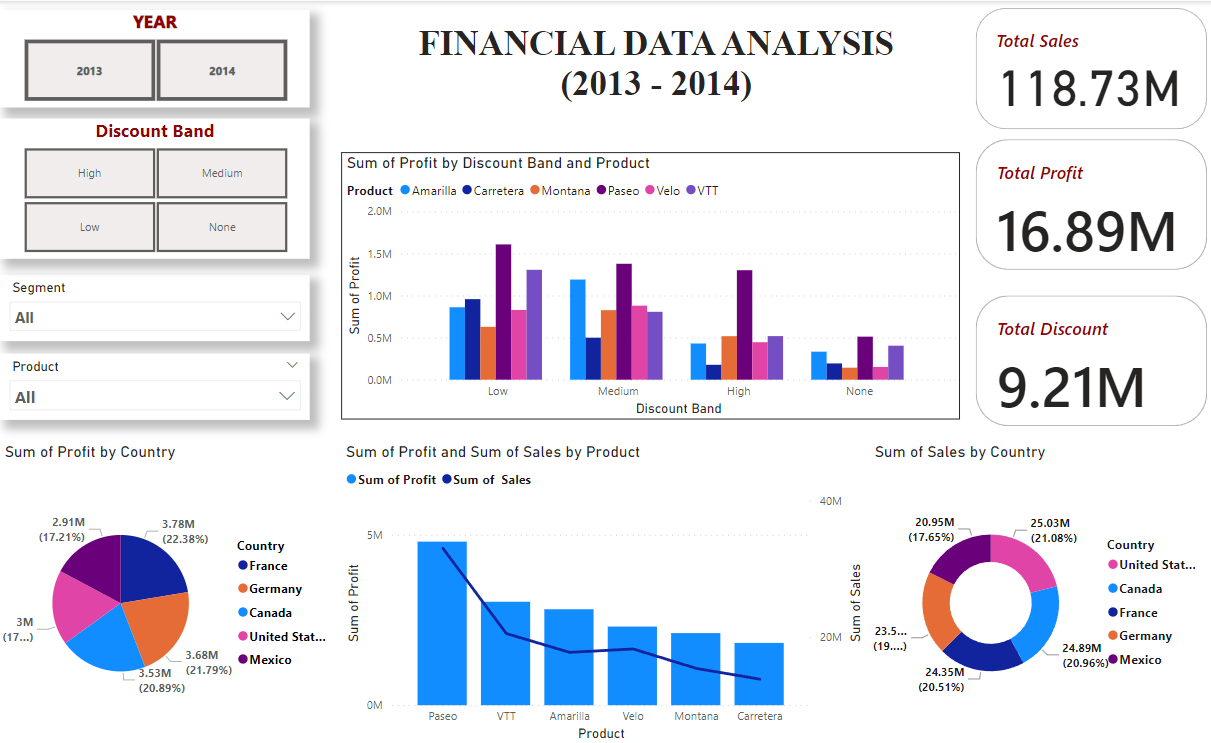

The page's visual inventory and layout, read from the dashboard file:
{"tool":"powerbi","page":{"name":"Page 1","canvas":[1300,800],"ordinal":0},"visuals":[{"type":"donutChart","fields":{"Category":["Sheet1.Country"],"Y":["Sum(Sheet1. Sales)"]},"box":[932.7,473,367.2,325.6],"z":0},{"type":"pieChart","fields":{"Category":["Sheet1.Country"],"Y":["Sum(Sheet1.Profit)"]},"box":[0,473,366.1,326.3],"z":1000},{"type":"lineStackedColumnComboChart","fields":{"Y2":["Sum(Sheet1. Sales)"],"Y":["Sum(Sheet1.Profit)"],"Category":["Sheet1.Product"]},"box":[365.8,473,564.2,325.6],"z":2000},{"type":"cardVisual","fields":{"Data":["Sum(Sheet1. Sales)"]},"box":[1041.2,2.7,258.6,140.7],"z":3000},{"type":"cardVisual","fields":{"Data":["Sum(Sheet1.Profit)"]},"box":[1041.2,143.4,258.6,150.1],"z":4000},{"type":"cardVisual","fields":{"Data":["Sum(Sheet1.Discounts)"]},"box":[1041.2,310.9,258.6,150.1],"z":5000},{"type":"clusteredColumnChart","fields":{"Series":["Sheet1.Product"],"Category":["Sheet1.Discount Band"],"Y":["Sum(Sheet1.Profit)"]},"box":[365.8,162.1,663.3,286.8],"z":6000},{"type":"slicer","title":"YEAR","fields":{"Values":["Sheet1.Year"]},"box":[0,9.4,332.3,104.5],"z":7000},{"type":"slicer","fields":{"Values":["Sheet1.Segment"]},"box":[0,293.5,332.3,71],"z":8000},{"type":"slicer","fields":{"Values":["Sheet1.Product"]},"box":[0,377.9,332.3,71],"z":9000},{"type":"slicer","title":"Discount Band","fields":{"Values":["Sheet1.Discount Band"]},"box":[0,126,332.3,150.1],"z":9001},{"type":"textbox","box":[365.8,18.8,675.4,107.2],"z":9002}]}

Visuals, with their boxes in screenshot pixels (x1, y1, x2, y2), scaled from the page's 1300x800 canvas onto the 1211x743 screenshot:
donutChart - Sheet1.Country x Sum(Sheet1. Sales): <box>869,439,1210,742</box>
pieChart - Sheet1.Country x Sum(Sheet1.Profit): <box>0,439,341,742</box>
lineStackedColumnComboChart - Sum(Sheet1. Sales) x Sum(Sheet1.Profit): <box>341,439,866,742</box>
cardVisual - Sum(Sheet1. Sales): <box>970,3,1210,133</box>
cardVisual - Sum(Sheet1.Profit): <box>970,133,1210,273</box>
cardVisual - Sum(Sheet1.Discounts): <box>970,289,1210,428</box>
clusteredColumnChart - Sheet1.Product x Sheet1.Discount Band: <box>341,151,959,417</box>
"YEAR" slicer: <box>0,9,310,106</box>
slicer - Sheet1.Segment: <box>0,273,310,339</box>
slicer - Sheet1.Product: <box>0,351,310,417</box>
"Discount Band" slicer: <box>0,117,310,256</box>
textbox: <box>341,17,970,117</box>
